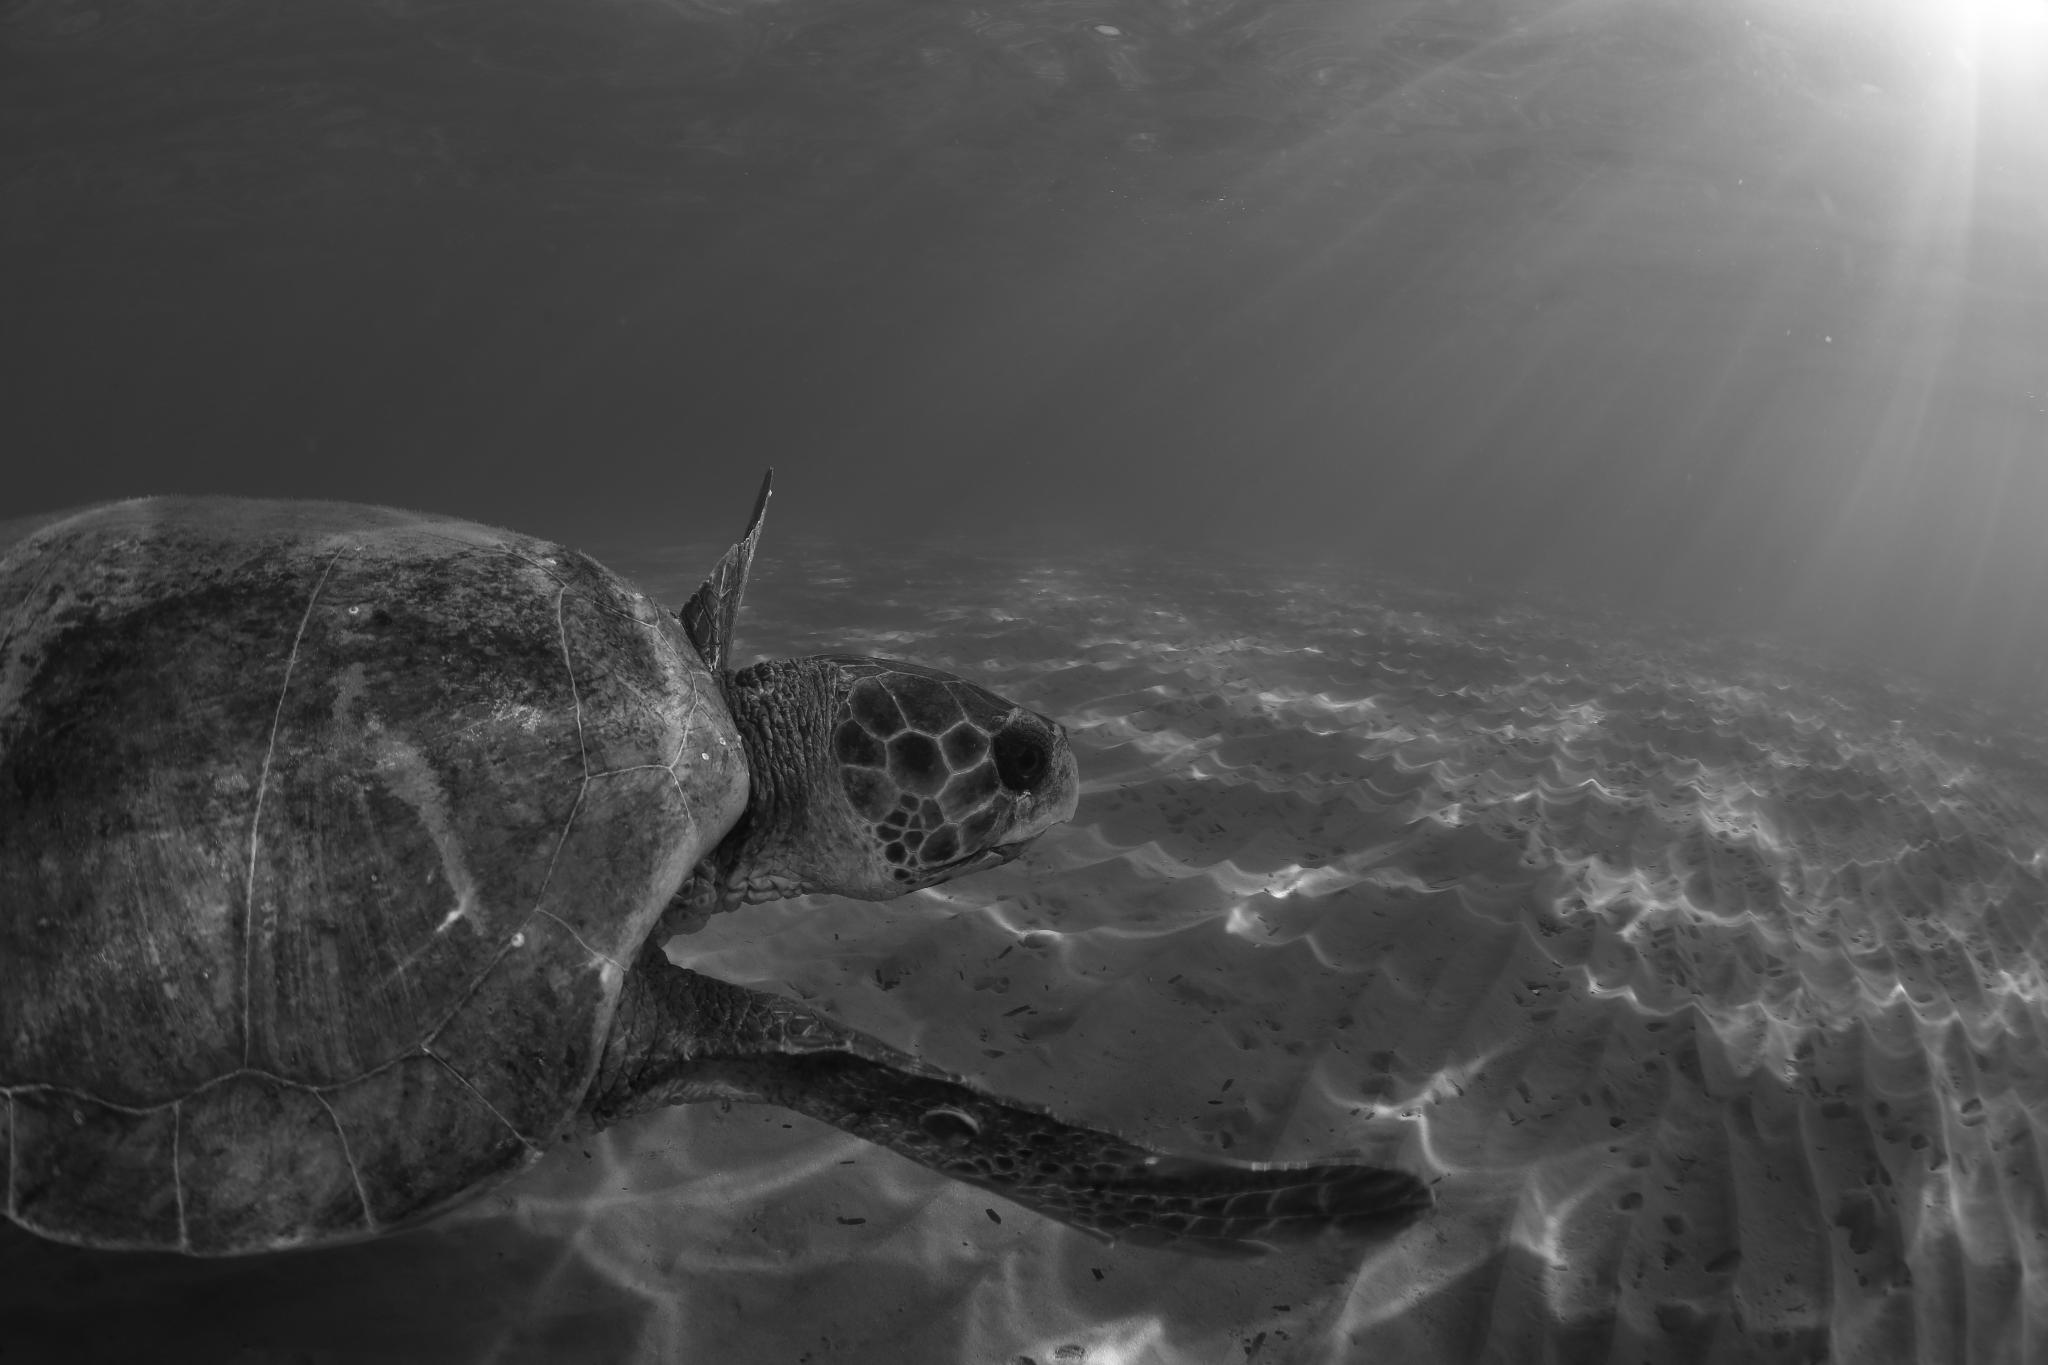Head: (728, 655, 1078, 901)
